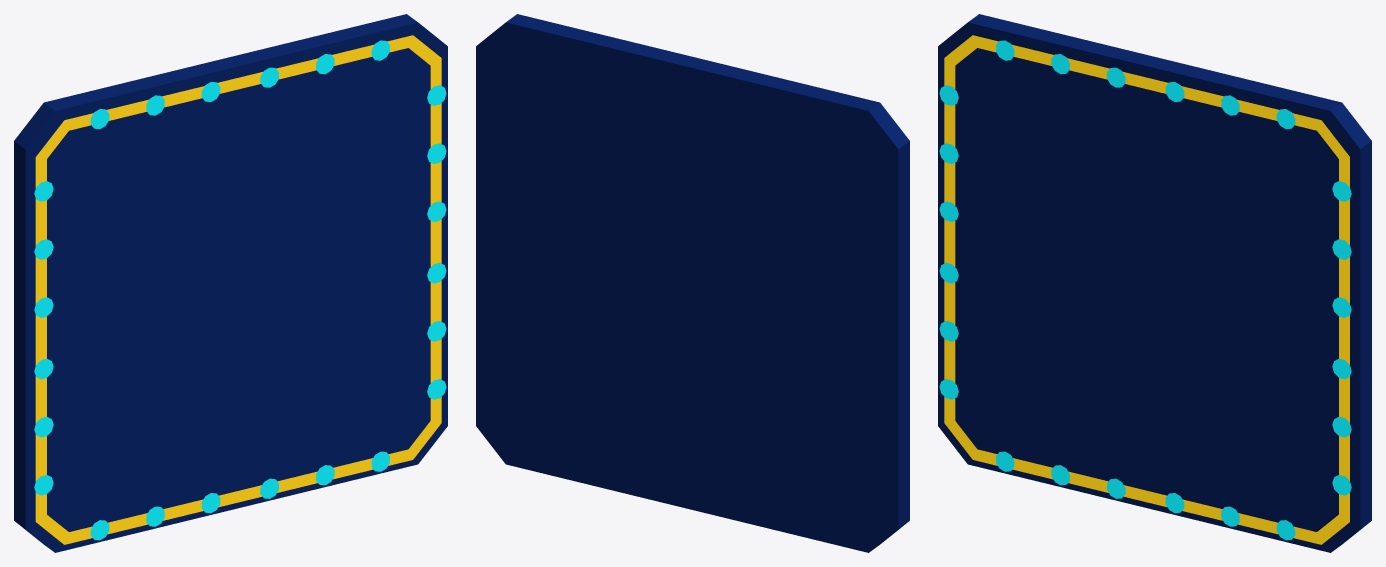
File: howto.frame.gltf
3 renders of one model, left to right at view 1: azimuth 30°, elevation 25°; view 2: azimuth 150°, elevation 25°; view 3: azimuth 330°, elevation 25°, orthographic.
Visible parts, largest first — view 1: Cube.004, Cube.005, Cylinder; view 2: Cube.004; view 3: Cube.004, Cube.005, Cylinder.
Part boxes in pixels (<box>): Cube.004: <box>14,14,447,552</box>; Cube.005: <box>35,35,441,544</box>; Cylinder: <box>34,40,446,540</box>; Cube.004: <box>476,14,909,552</box>; Cube.004: <box>938,14,1371,552</box>; Cube.005: <box>944,35,1349,544</box>; Cylinder: <box>939,40,1351,540</box>.
Bounding box in the file's own units: 2 × 2 × 0.1244.
Materials: 2 (2 with a texture image).
